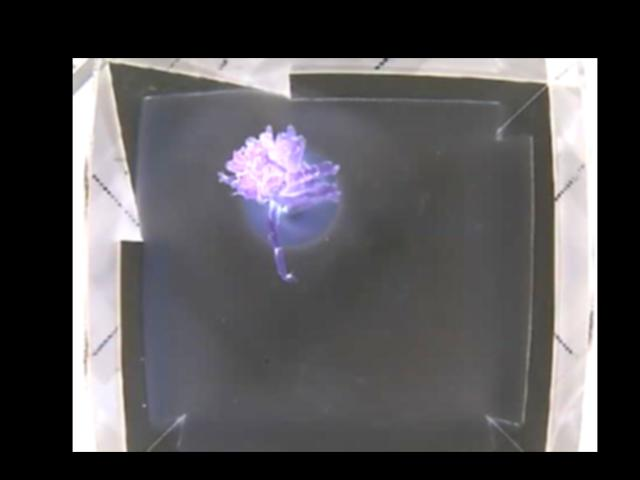Mooli: (218, 125, 341, 279)
